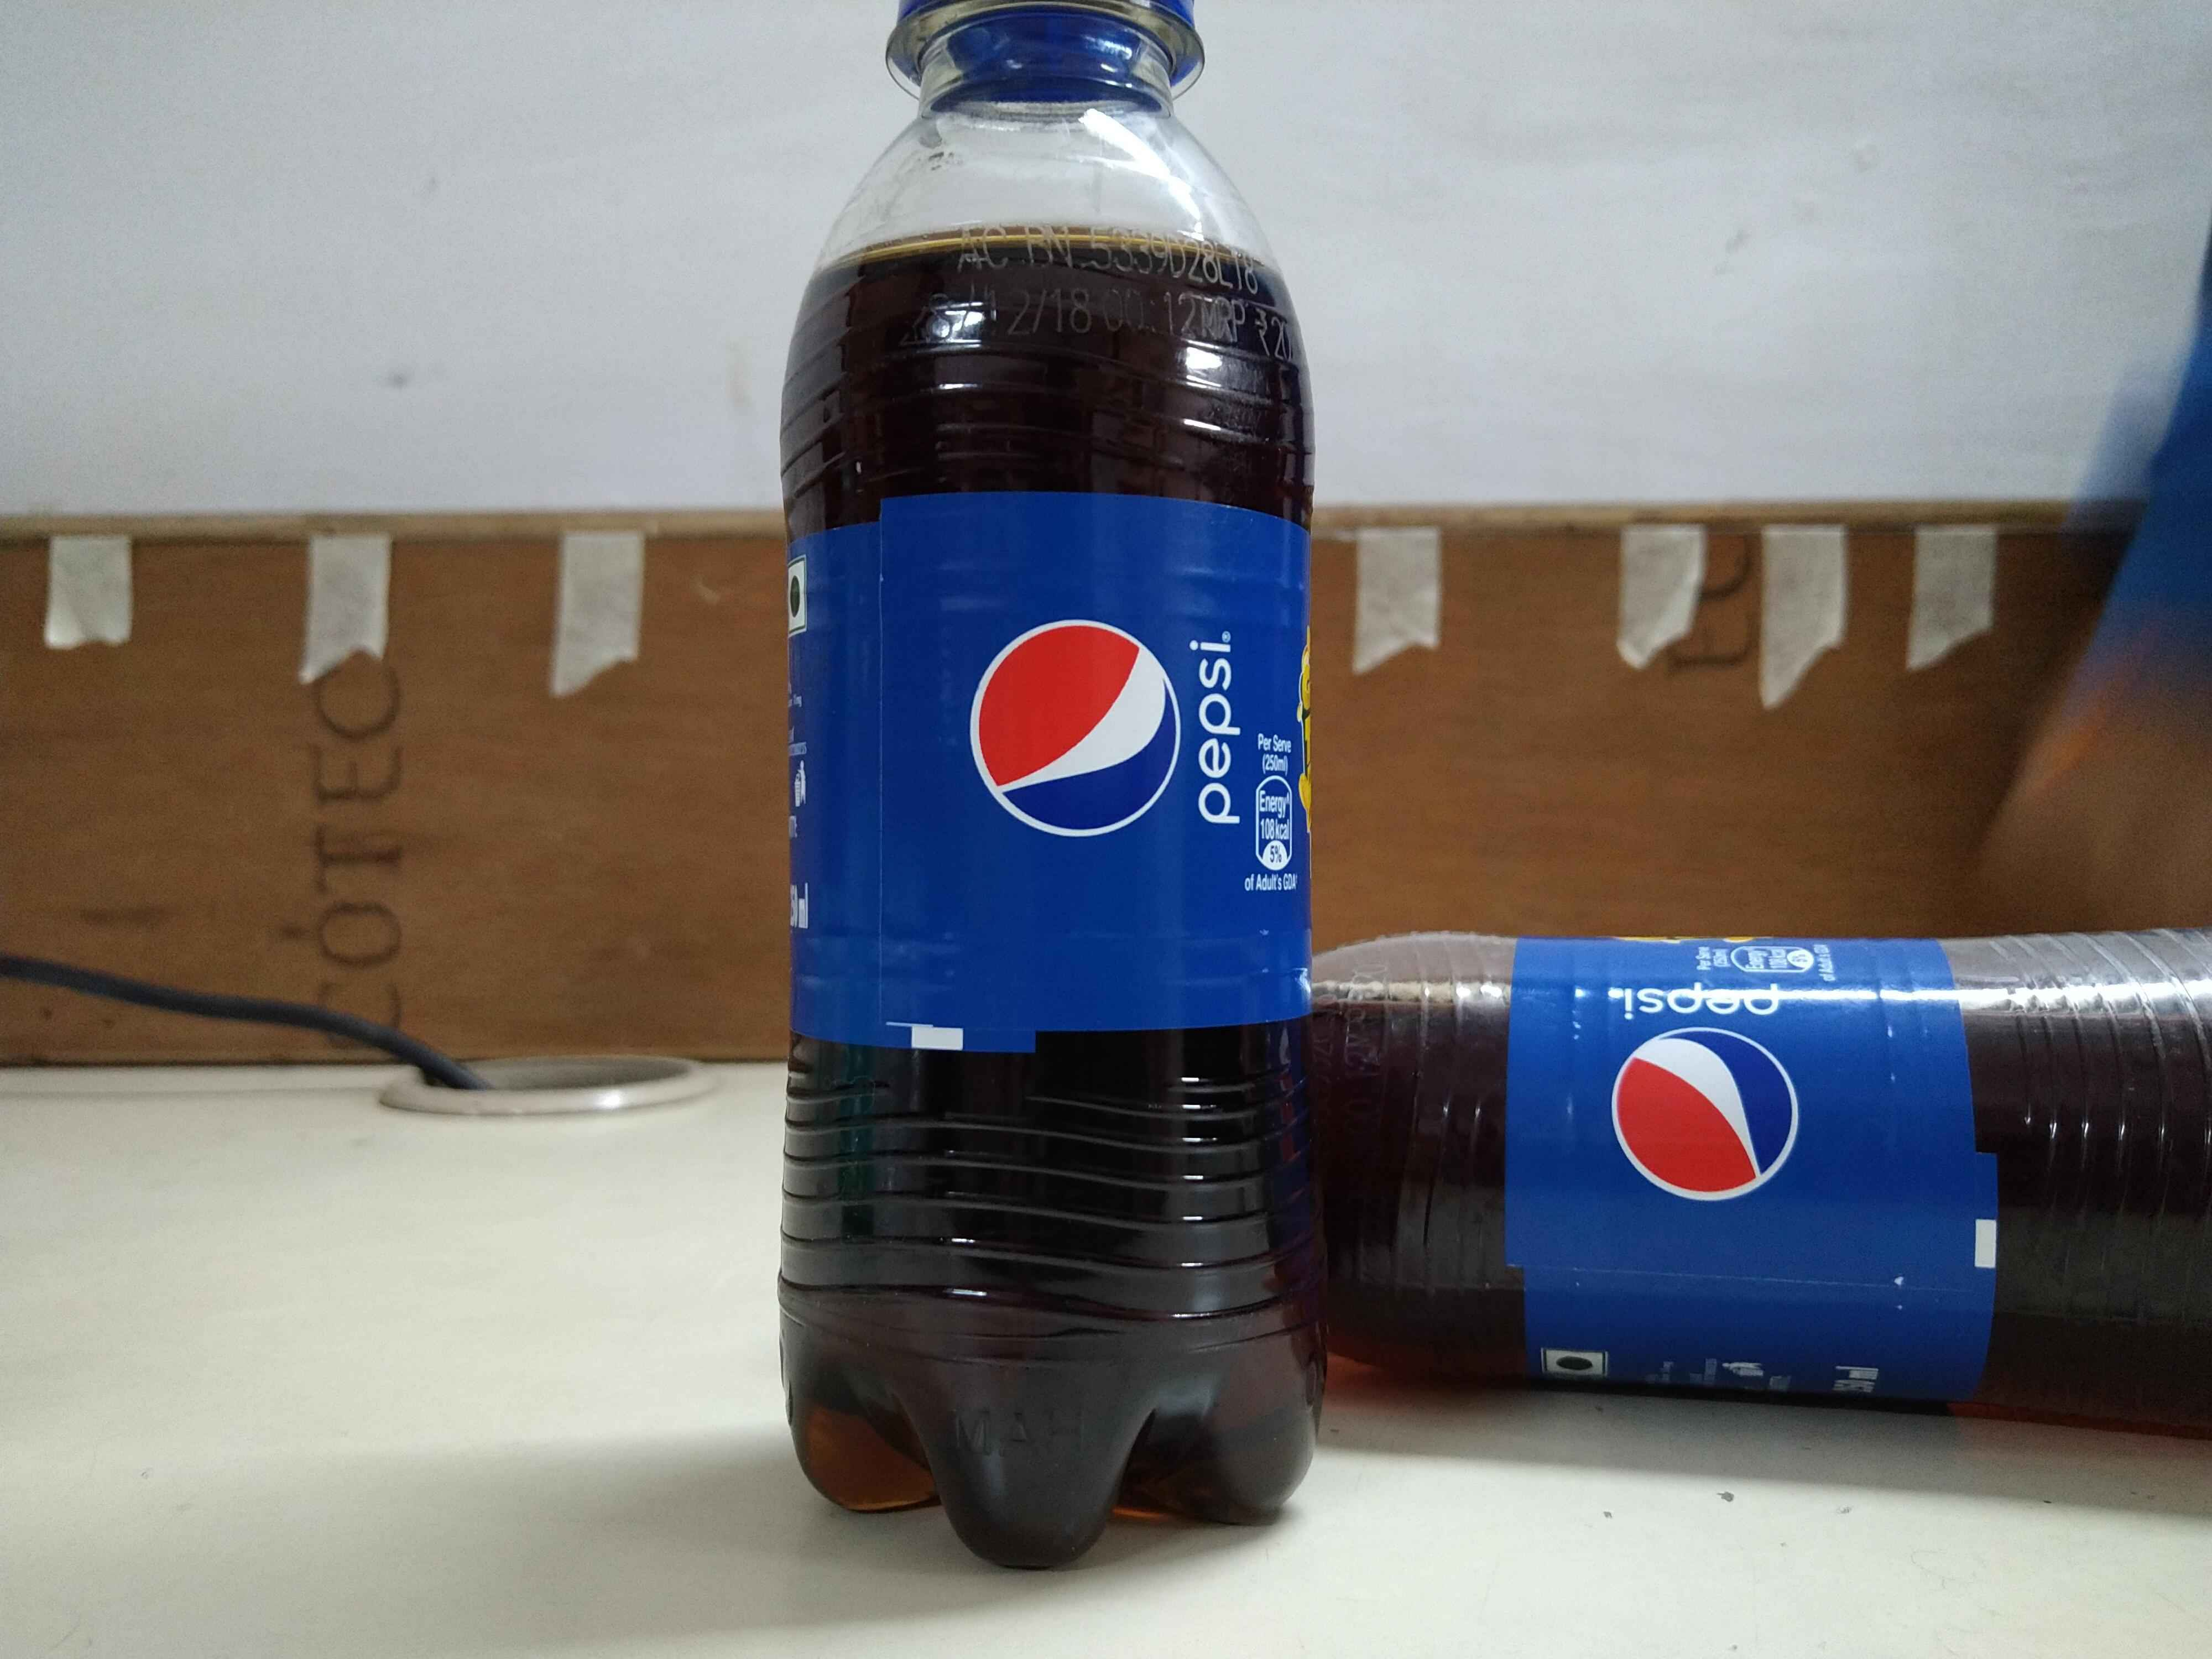pepsi: (970, 601, 1259, 850), (1581, 974, 1846, 1190)
